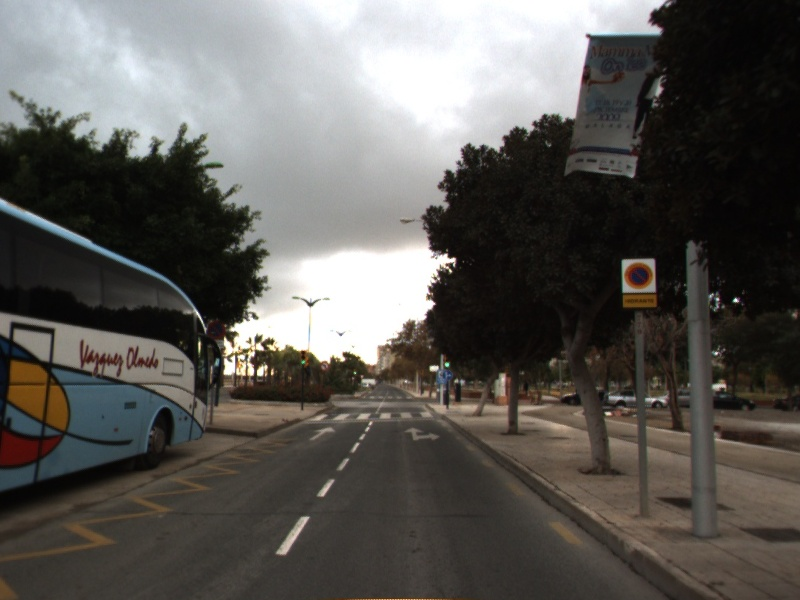STRAIGHT: (307, 424, 338, 442)
STRAIGHT_RIGHT: (402, 425, 443, 442)
